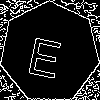E: (25, 27, 67, 80)
